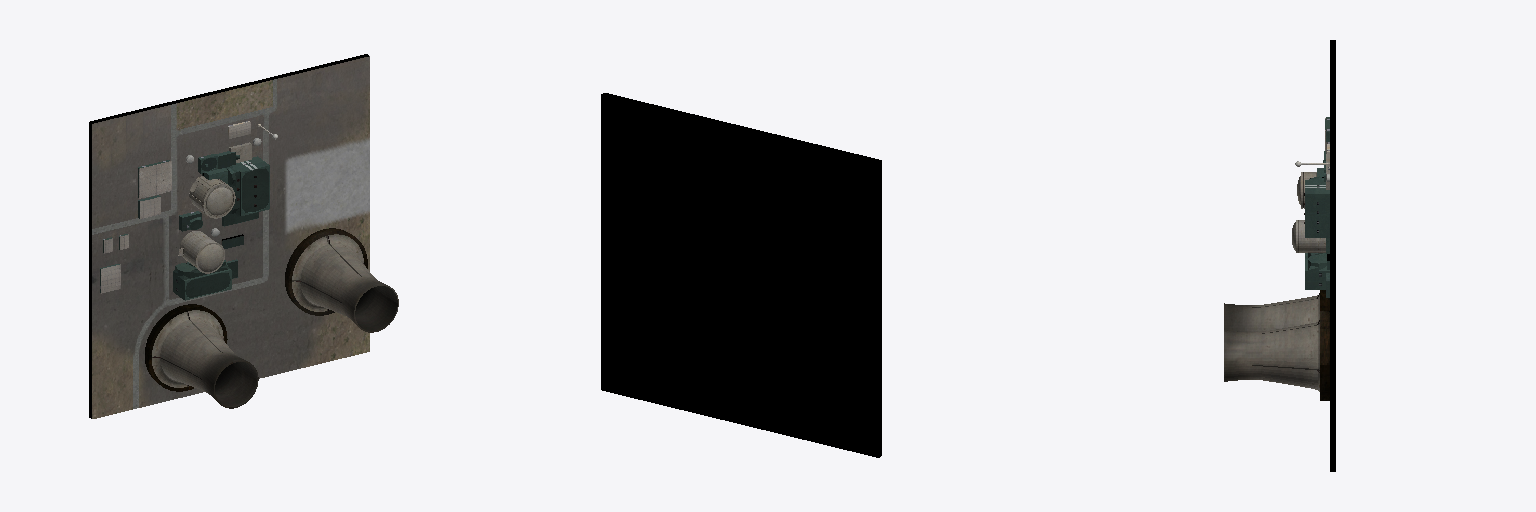
3 views of the same model, side by side, from view 1: azimuth 30°, elevation 25°; view 2: azimuth 150°, elevation 25°; view 3: azimuth 270°, elevation 25° (orthographic).
Visible parts, largest first — view 1: 10078_Nuclear_Power_Plant; view 2: 10078_Nuclear_Power_Plant; view 3: 10078_Nuclear_Power_Plant.
Part boxes in pixels (bbox=[...]): 10078_Nuclear_Power_Plant: bbox=[89, 54, 398, 418]; 10078_Nuclear_Power_Plant: bbox=[601, 93, 881, 457]; 10078_Nuclear_Power_Plant: bbox=[1224, 40, 1335, 471].
Bounding box in the file's own units: 450 × 457 × 157.
Materials: 1 (1 with a texture image).